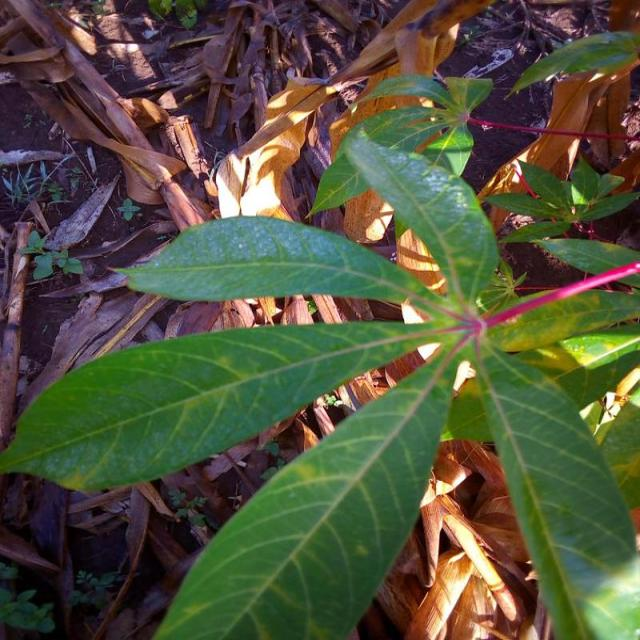cassava leaf: (1, 85, 638, 638), (152, 357, 454, 639), (0, 318, 438, 494), (457, 335, 638, 638), (105, 213, 442, 305)
